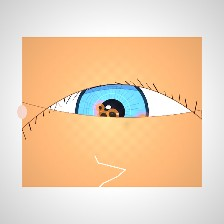foreign_body_visible: (92, 99, 133, 131)
